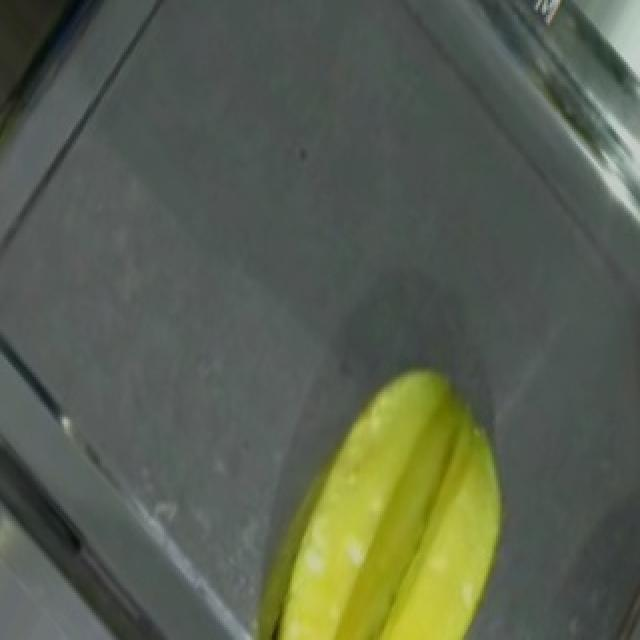fruit: (232, 330, 568, 640)
